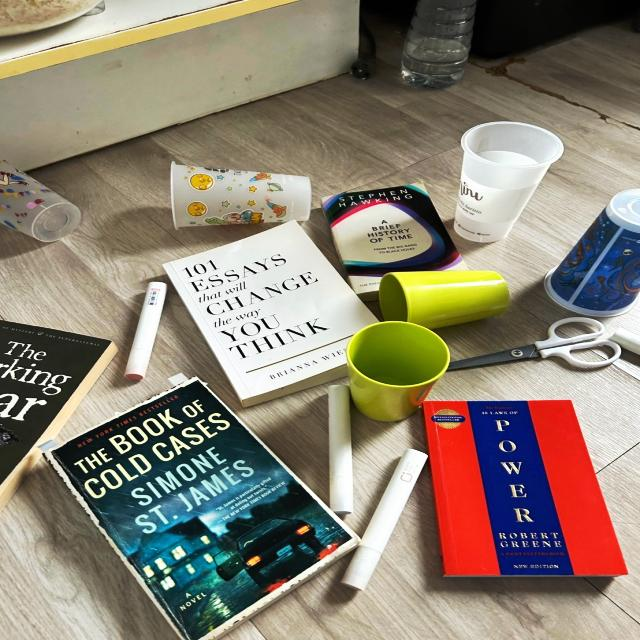Book: (47, 378, 354, 640), (163, 223, 376, 404), (424, 400, 628, 577), (0, 321, 117, 506), (322, 183, 468, 300)
HighLight Pen: (342, 449, 427, 590), (126, 282, 167, 380), (329, 385, 353, 515), (609, 328, 639, 355)
Plastic Cup: (454, 122, 563, 244), (545, 189, 639, 318), (171, 162, 311, 229), (0, 161, 80, 242)
Scissors: (449, 317, 622, 370)
WaterGlass: (347, 322, 449, 422), (379, 270, 509, 329)
